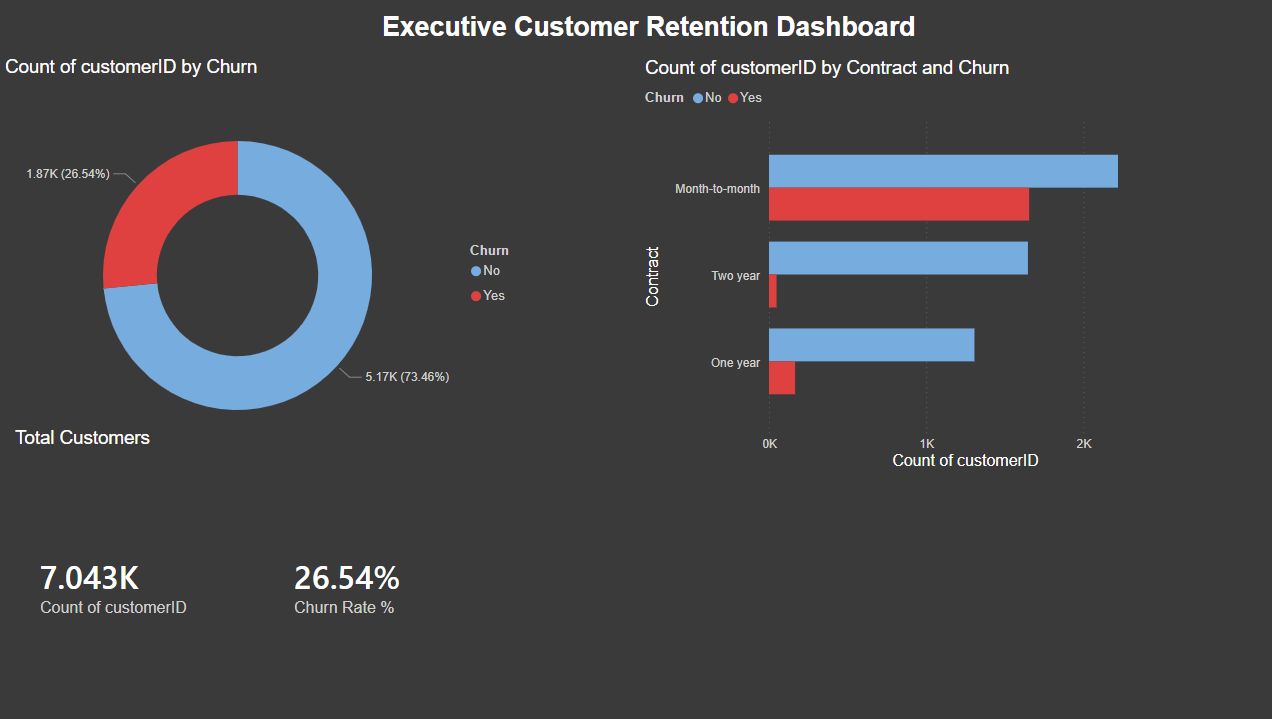

Layout of this report page (visuals, bound fields, positions):
{"tool":"powerbi","page":{"name":"Total Churn Analysis","canvas":[1280,720],"ordinal":0},"visuals":[{"type":"donutChart","fields":{"Category":["ChurnData.Churn"],"Y":["CountNonNull(ChurnData.customerID)"]},"box":[0,56,533.6,417.7],"z":0},{"type":"cardVisual","title":"Total Customers","fields":{"Data":["Count(ChurnData.customerID)","ChurnData.Churn Rate %"]},"box":[10,427,534,293],"z":1000},{"type":"clusteredBarChart","fields":{"Category":["ChurnData.Contract"],"Y":["CountNonNull(ChurnData.customerID)"],"Series":["ChurnData.Churn"]},"box":[640.5,57,534.6,416.7],"z":2000},{"type":"textbox","box":[376.7,7,778.4,50],"z":3000}]}

Visuals, with their boxes in screenshot pixels (x1, y1, x2, y2), scaled from the page's 1280x720 canvas onto the 1272x719 screenshot:
donutChart - ChurnData.Churn x CountNonNull(ChurnData.customerID): {"left": 0, "top": 56, "right": 530, "bottom": 473}
"Total Customers" cardVisual: {"left": 10, "top": 426, "right": 541, "bottom": 718}
clusteredBarChart - ChurnData.Contract x CountNonNull(ChurnData.customerID): {"left": 636, "top": 57, "right": 1168, "bottom": 473}
textbox: {"left": 374, "top": 7, "right": 1148, "bottom": 57}
